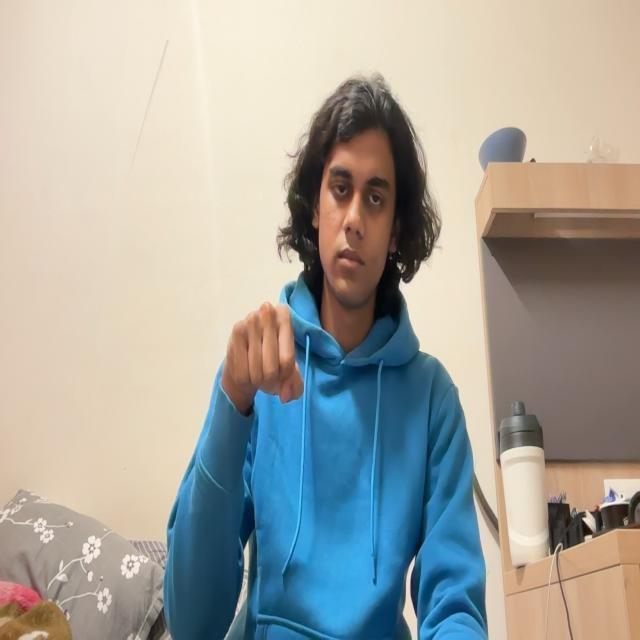Yes: (204, 288, 308, 448)
